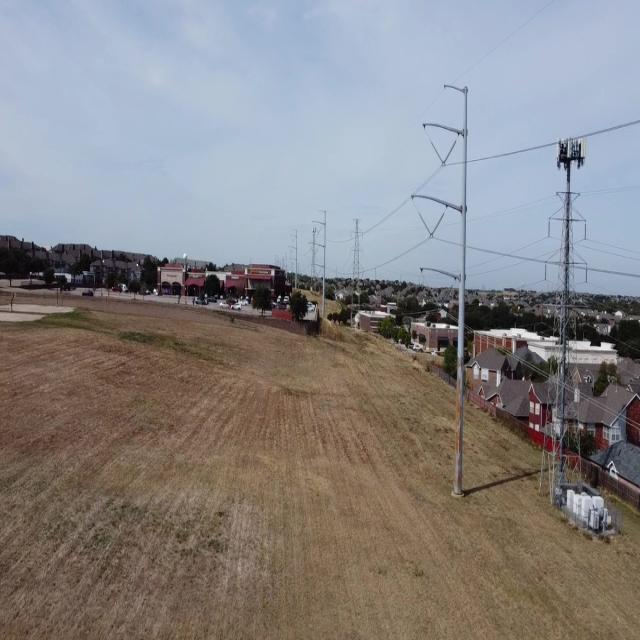杆塔: (529, 132, 597, 529), (346, 215, 367, 335), (309, 225, 318, 291)
正常绝缘子: (439, 135, 460, 172), (427, 209, 447, 242), (427, 135, 446, 169), (424, 279, 443, 312), (416, 206, 434, 240), (437, 281, 456, 313), (582, 219, 588, 240), (546, 217, 550, 240), (585, 262, 589, 284), (544, 261, 547, 284)
